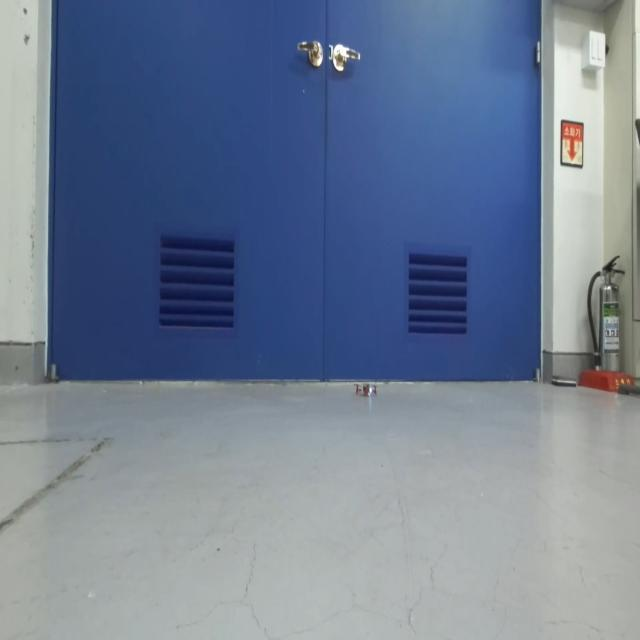crazyflie: (353, 378, 379, 402)
